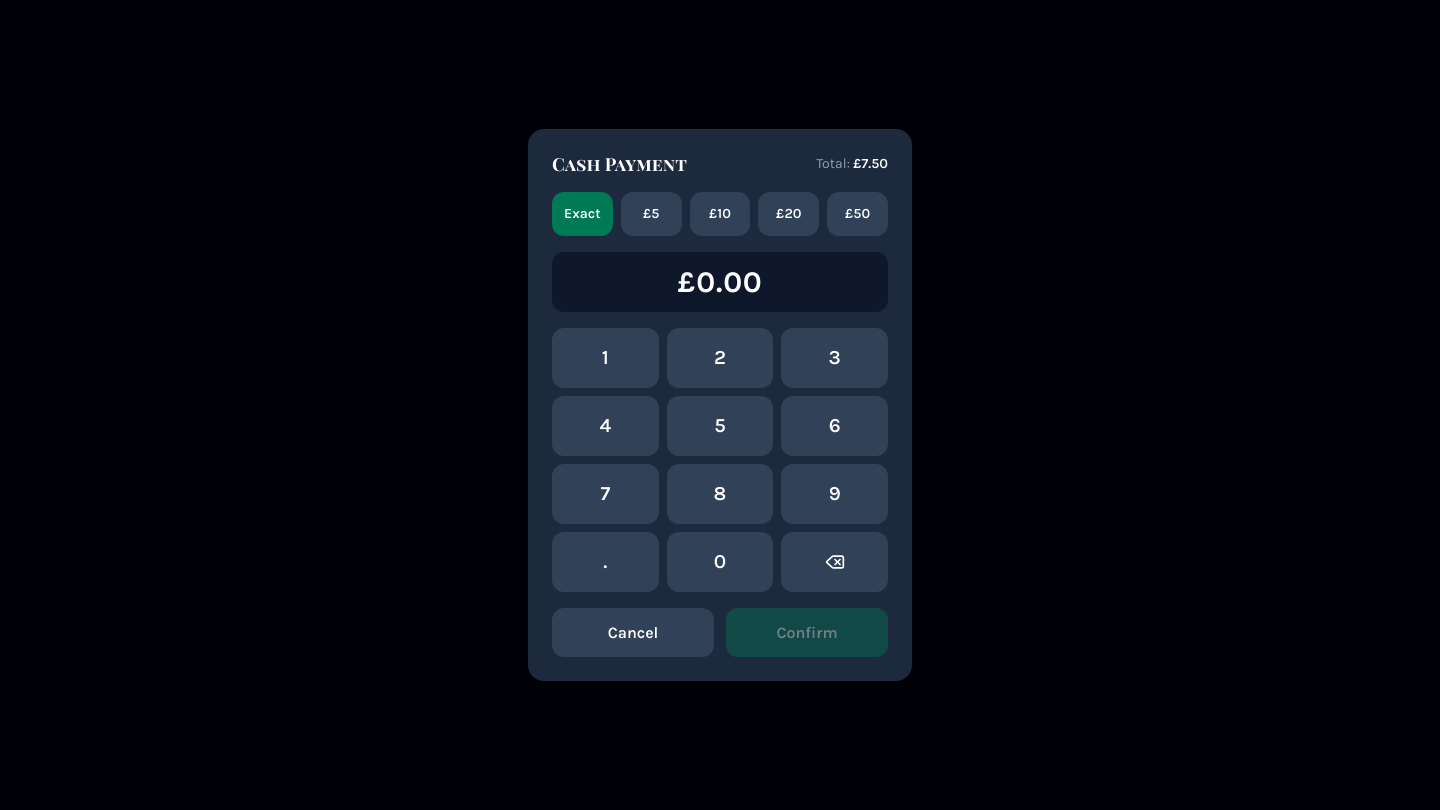
CashPaymentModal › quick-select £10 sets tendered amount and enables confirm
Click the button "£10" at [720, 214], box [690, 192, 750, 236]
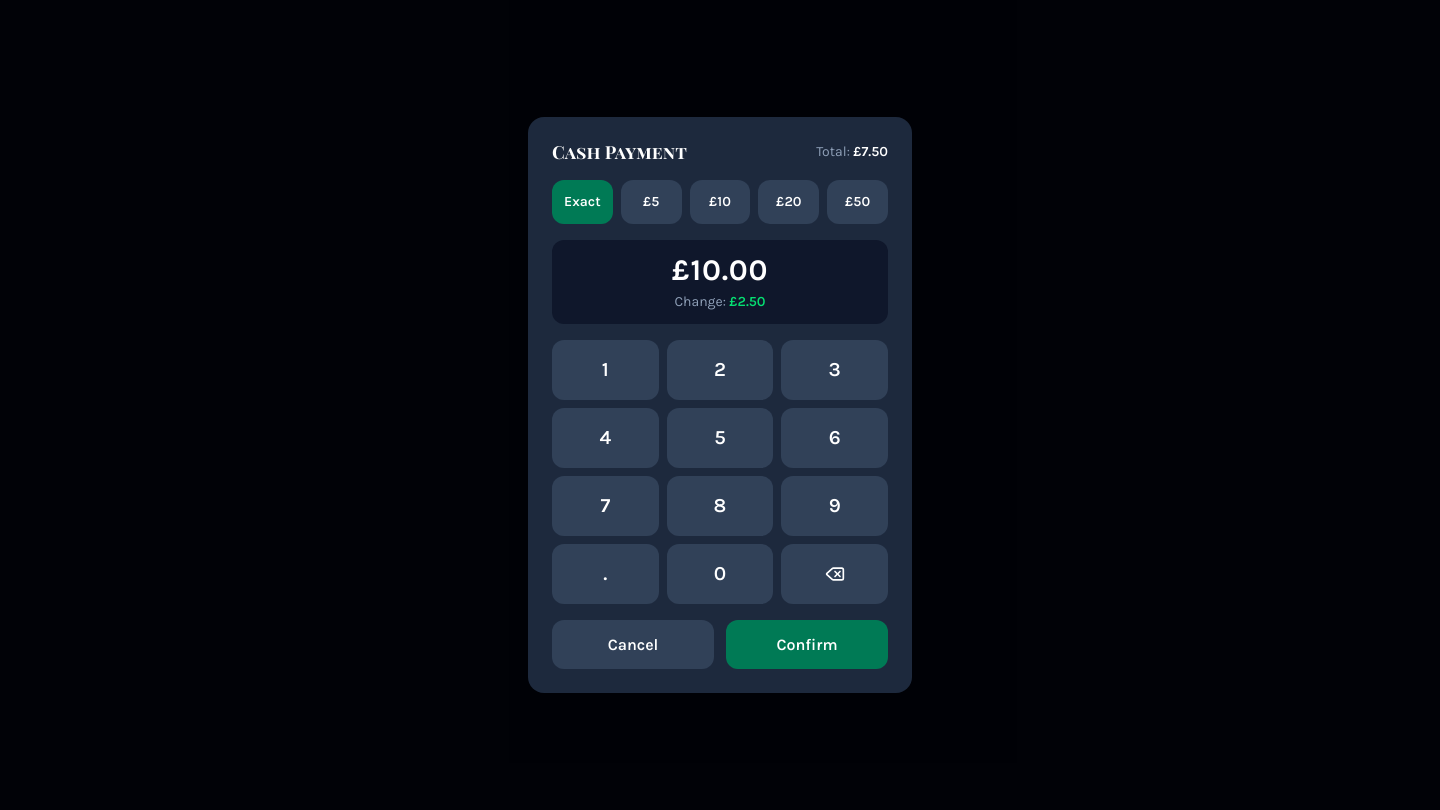
Result: the text "£10.00" is shown at [672, 252, 768, 288]
Result: the button "Confirm" is enabled at [726, 620, 888, 670]
